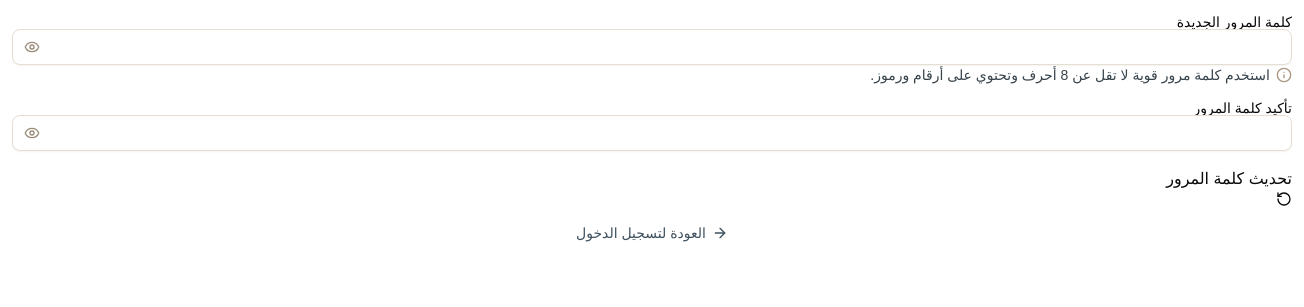
ResetPasswordForm › validates password requirements and matching confirmation
This screenshot has width=1304, height=307.
Type "short" into the password field labelled "كلمة المرور الجديدة" at (652, 47), box [12,29,1292,65]
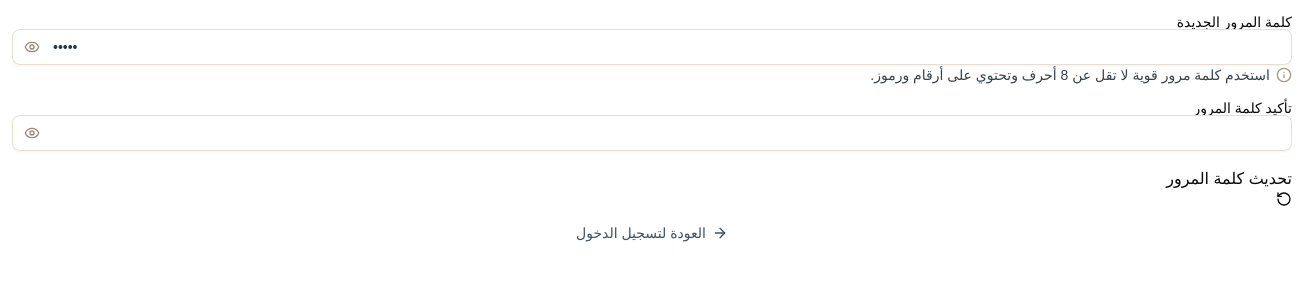
Type "different" into the password field labelled "تأكيد كلمة المرور" at (652, 133), box [12,115,1292,151]
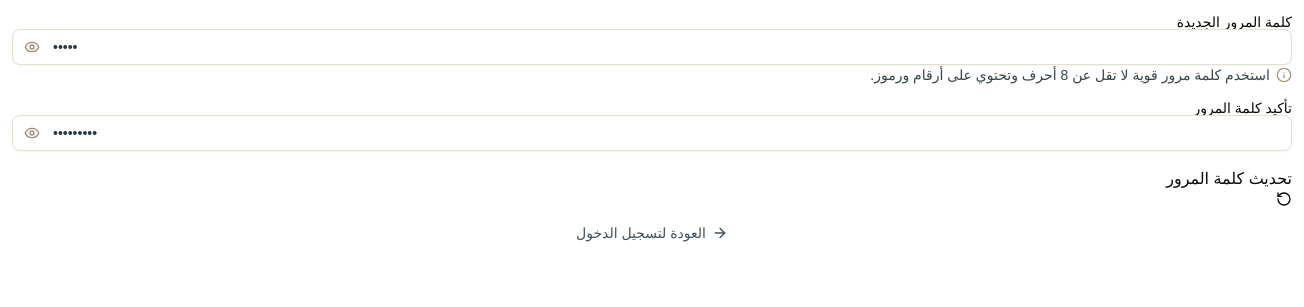
Click the button "تحديث كلمة المرور" at (1229, 187), box [1166,167,1292,207]
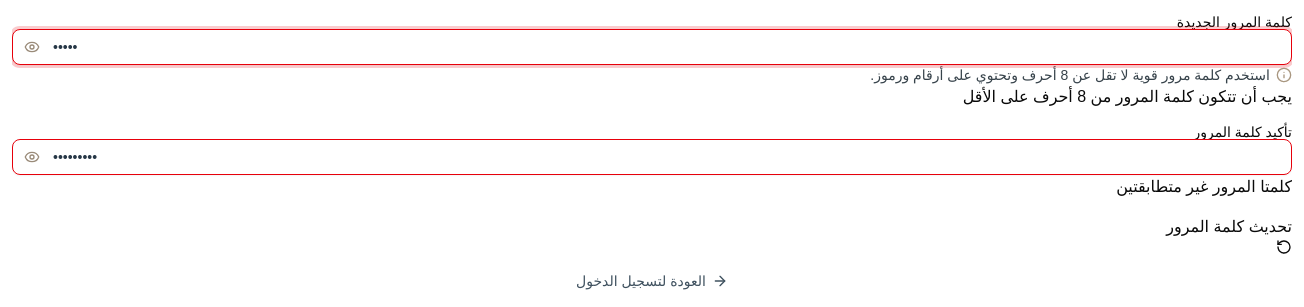
Check: the text "يجب أن تتكون كلمة المرور من 8 أحرف على الأقل" is shown, box [963,88,1292,105]
Check: the text "كلمتا المرور غير متطابقتين" is shown, box [1116,178,1292,195]
